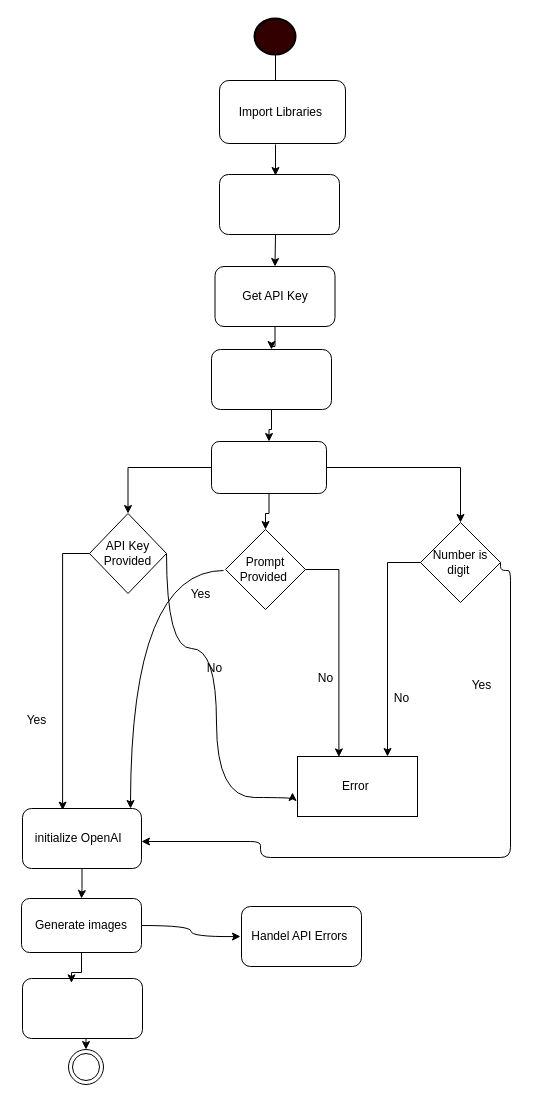
This 536x1102 diagram has some shape labels left out. Each missing label, with the box of its shape:
Create Argument Parser: (210, 348, 332, 410)
Print Image URLs: (22, 978, 142, 1038)
Set Defaults: (218, 174, 340, 234)
Validates and Parse Arguments: (210, 440, 326, 494)
